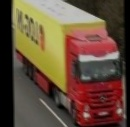truck: (13, 0, 125, 127)
